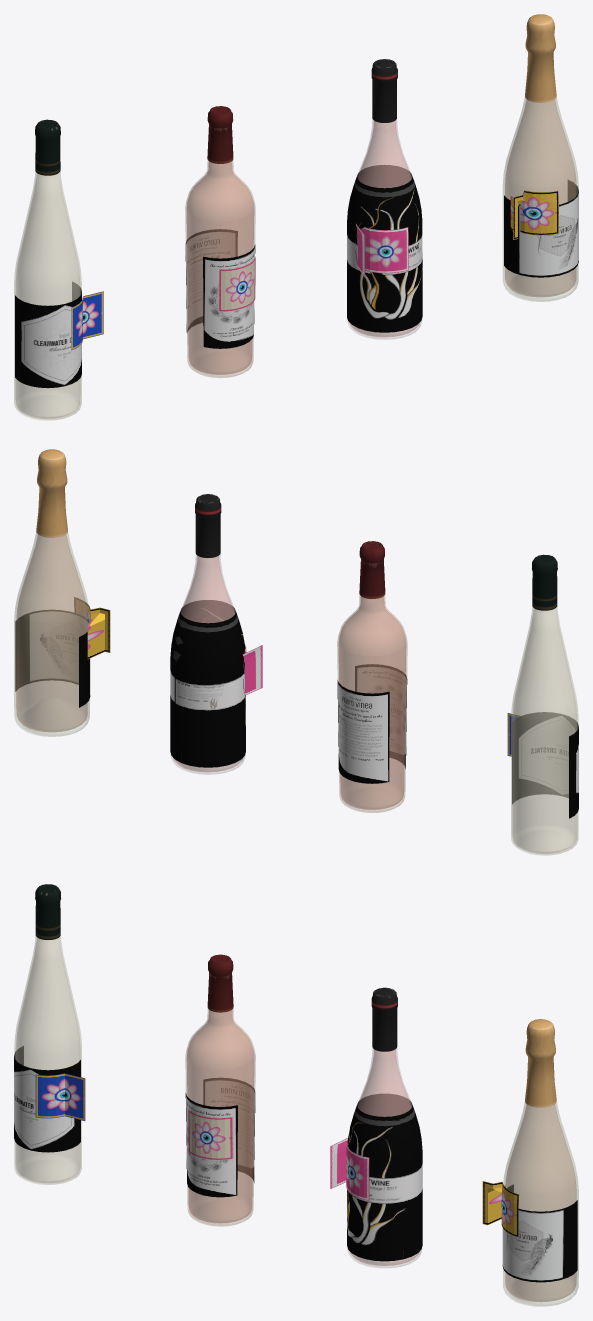
File: nyb_cocktail_bottles.glb
The picture shows the model from 3 angles, top to bottom: view 1: azimuth 30°, elevation 25°; view 2: azimuth 150°, elevation 25°; view 3: azimuth 330°, elevation 25°; orthographic projection.
Parts seen in each view (by area): view 1: wine_bottles_01_bordeaux, stk_lbl_e68a211058.png, stk_lbl_628e4e6f23.png, stk_lbl_a239a749db.png, stk_lbl_82e7255a40.png; view 2: wine_bottles_01_bordeaux, stk_lbl_628e4e6f23.png, stk_lbl_e68a211058.png; view 3: wine_bottles_01_bordeaux, stk_lbl_82e7255a40.png, stk_lbl_a239a749db.png, stk_lbl_e68a211058.png, stk_lbl_628e4e6f23.png.
Boxes of the visible parts, box(x1,y1,x2,y2) form: wine_bottles_01_bordeaux: box(14, 14, 578, 420); stk_lbl_e68a211058.png: box(356, 223, 408, 277); stk_lbl_628e4e6f23.png: box(510, 190, 558, 239); stk_lbl_a239a749db.png: box(218, 256, 255, 311); stk_lbl_82e7255a40.png: box(71, 291, 103, 350); wine_bottles_01_bordeaux: box(14, 449, 578, 855); stk_lbl_628e4e6f23.png: box(74, 597, 110, 659); stk_lbl_e68a211058.png: box(242, 645, 262, 695); wine_bottles_01_bordeaux: box(14, 884, 578, 1306); stk_lbl_82e7255a40.png: box(35, 1073, 85, 1120); stk_lbl_a239a749db.png: box(188, 1109, 233, 1160); stk_lbl_e68a211058.png: box(330, 1138, 369, 1200); stk_lbl_628e4e6f23.png: box(482, 1181, 519, 1237).
Bounding box in the file's own units: 0.6763 × 0.3314 × 0.0827.
16 materials, 13 textured.
